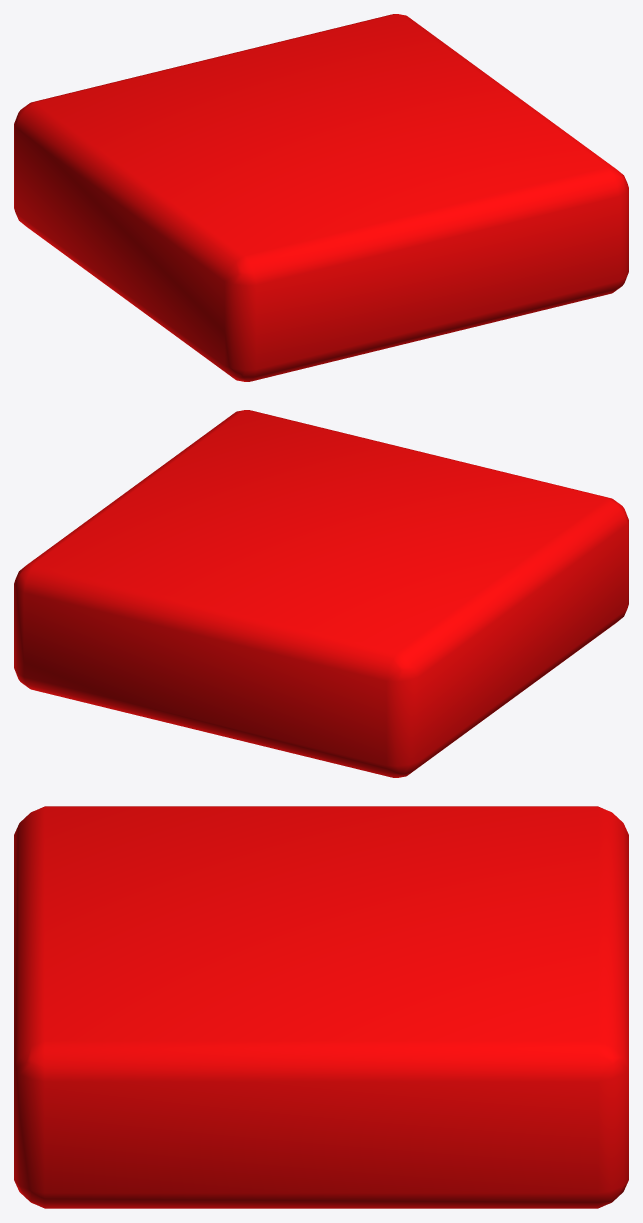
Rendered from SquareBlockRed.fbx.
The picture shows the model from 3 angles, top to bottom: view 1: azimuth 30°, elevation 25°; view 2: azimuth 150°, elevation 25°; view 3: azimuth 270°, elevation 25°; orthographic projection. The views are drawn at different scales.
Parts seen in each view (by area): view 1: SquareBlock; view 2: SquareBlock; view 3: SquareBlock.
Part boxes in pixels (x1,y1,x2,y2): SquareBlock: (14, 14, 628, 381); SquareBlock: (14, 410, 628, 777); SquareBlock: (14, 806, 628, 1208).
Bounding box in the file's own units: 4 × 1.2 × 4.
